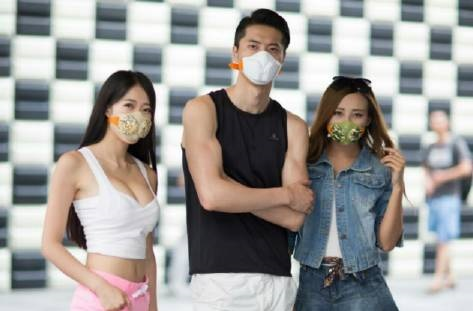face_mask: (235, 26, 284, 85), (106, 85, 151, 144), (323, 93, 368, 144)
